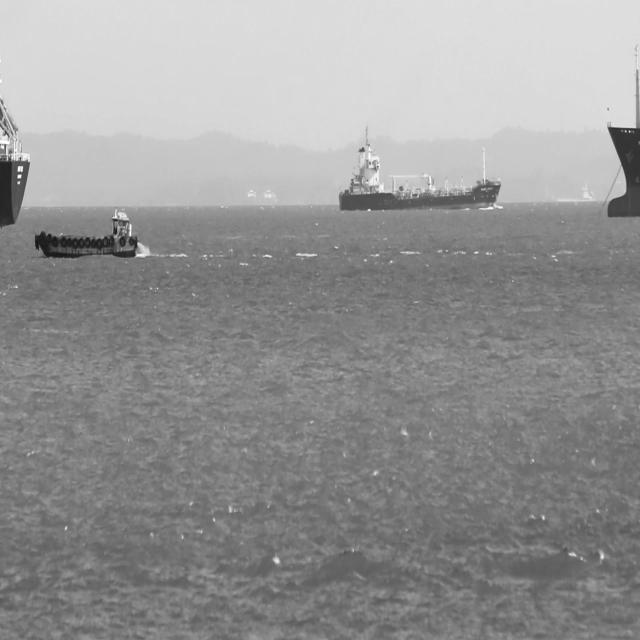ship: (338, 125, 502, 215), (607, 44, 640, 218), (34, 210, 140, 260), (0, 94, 31, 227)
